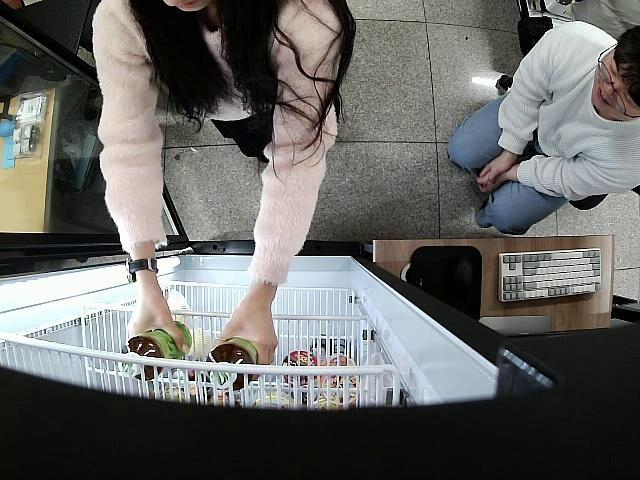19_17cha: (119, 324, 194, 380), (202, 338, 262, 394)
